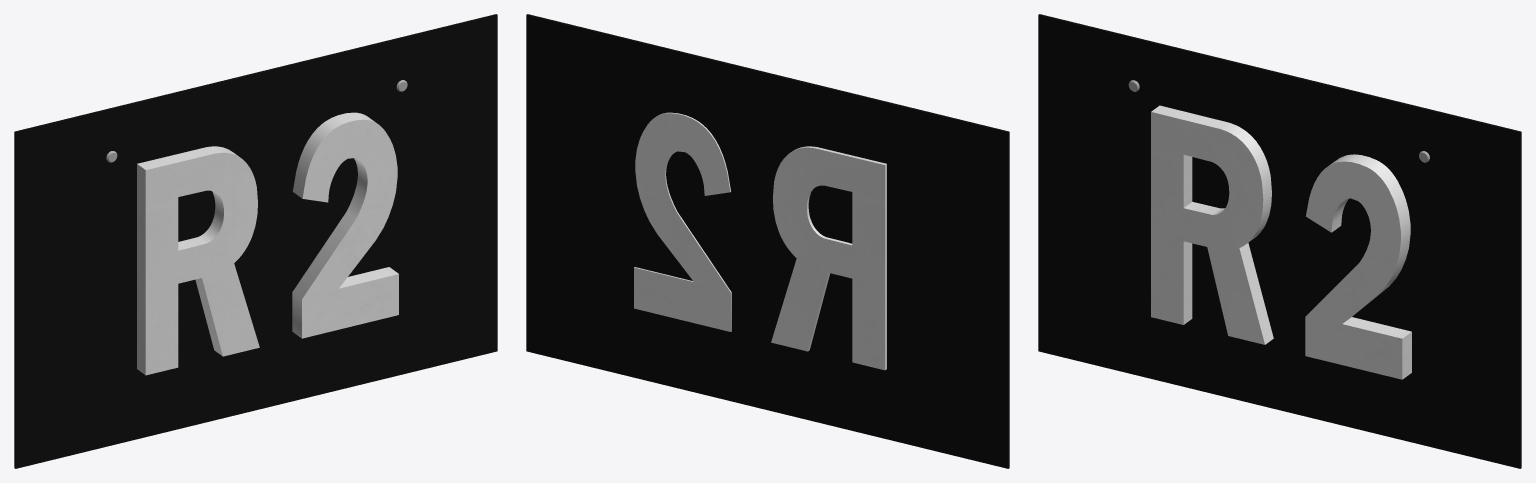
Rendered from room_plate2.glb.
3 views of the same model, side by side, from view 1: azimuth 30°, elevation 25°; view 2: azimuth 150°, elevation 25°; view 3: azimuth 330°, elevation 25° (orthographic).
Parts seen in each view (by area): view 1: NumberPlateTwoRow_38, Object_18, Object_68; view 2: NumberPlateTwoRow_38, Object_18, Object_68; view 3: NumberPlateTwoRow_38, Object_18, Object_68.
Part boxes in pixels (x1,y1,x2,y2): NumberPlateTwoRow_38: (14, 14, 497, 468); Object_18: (137, 146, 259, 375); Object_68: (292, 112, 398, 338); NumberPlateTwoRow_38: (526, 14, 1009, 468); Object_18: (771, 146, 886, 370); Object_68: (634, 112, 731, 331); NumberPlateTwoRow_38: (1038, 14, 1521, 468); Object_18: (1151, 105, 1273, 344); Object_68: (1305, 154, 1411, 379).
Size of the model in its own units: 0.2181 by 0.1454 by 0.0101.
2 materials, 2 textured.
